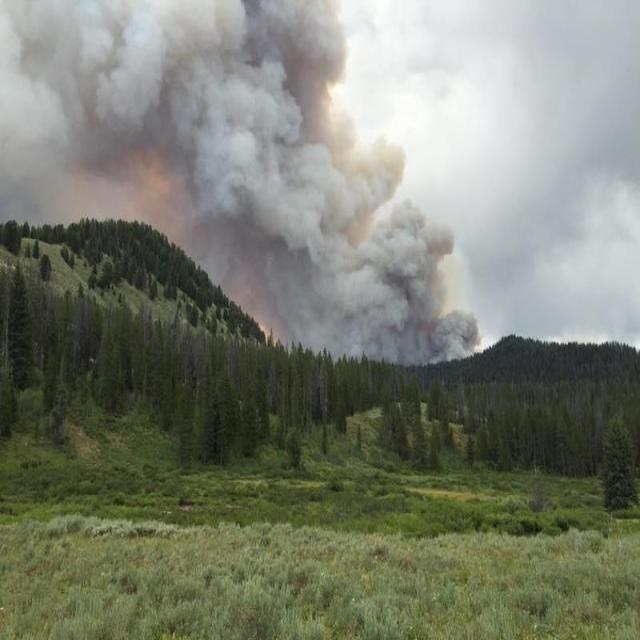smoke: (25, 1, 337, 190), (245, 194, 476, 356)
